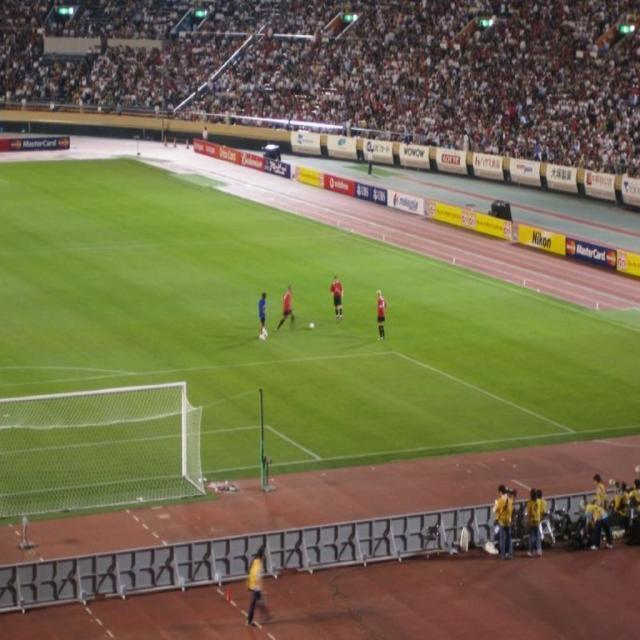ball: (310, 321, 314, 329)
